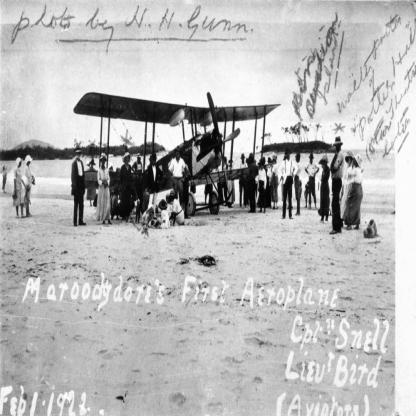CIV_Plane: (68, 92, 292, 222)
